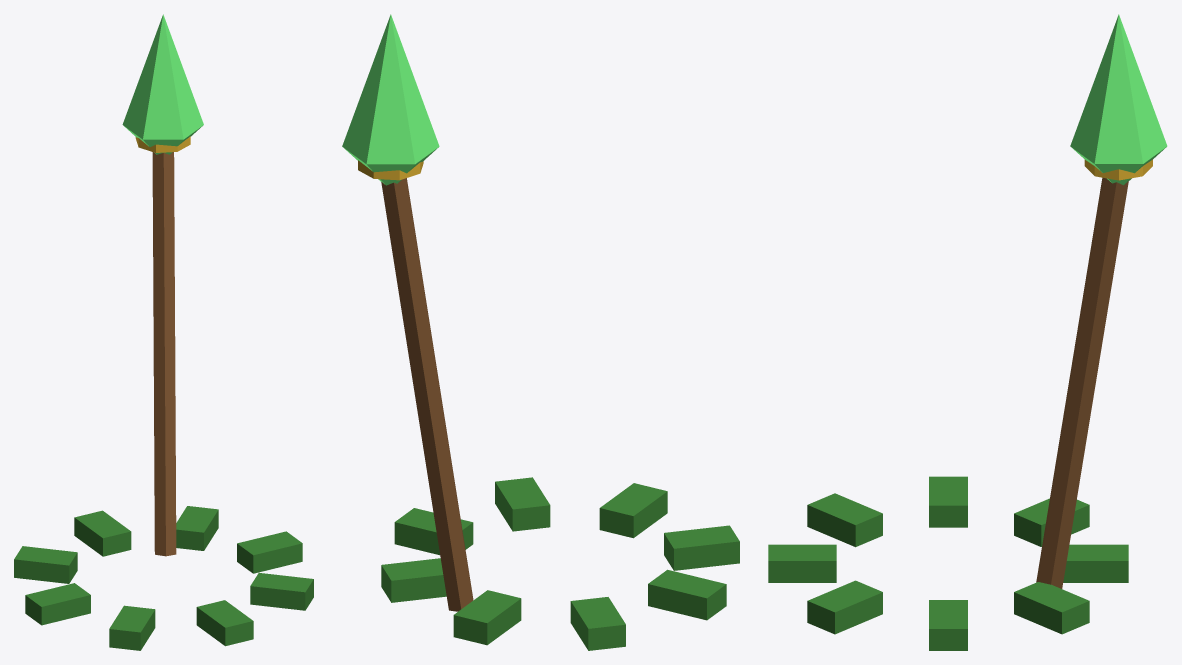
The model's file is HealerStaff.obj.
The picture shows the model from 3 angles, left to right: view 1: azimuth 30°, elevation 25°; view 2: azimuth 150°, elevation 25°; view 3: azimuth 270°, elevation 25°; orthographic projection. The views are drawn at different scales.
Parts seen in each view (by area): view 1: HealerStaff; view 2: HealerStaff; view 3: HealerStaff.
Boxes of the visible parts, bbox=[...] form: HealerStaff: bbox=[14, 14, 313, 650]; HealerStaff: bbox=[342, 14, 739, 650]; HealerStaff: bbox=[768, 14, 1167, 650].
Bounding box in the file's own units: 0.74 × 1.38 × 0.82.
